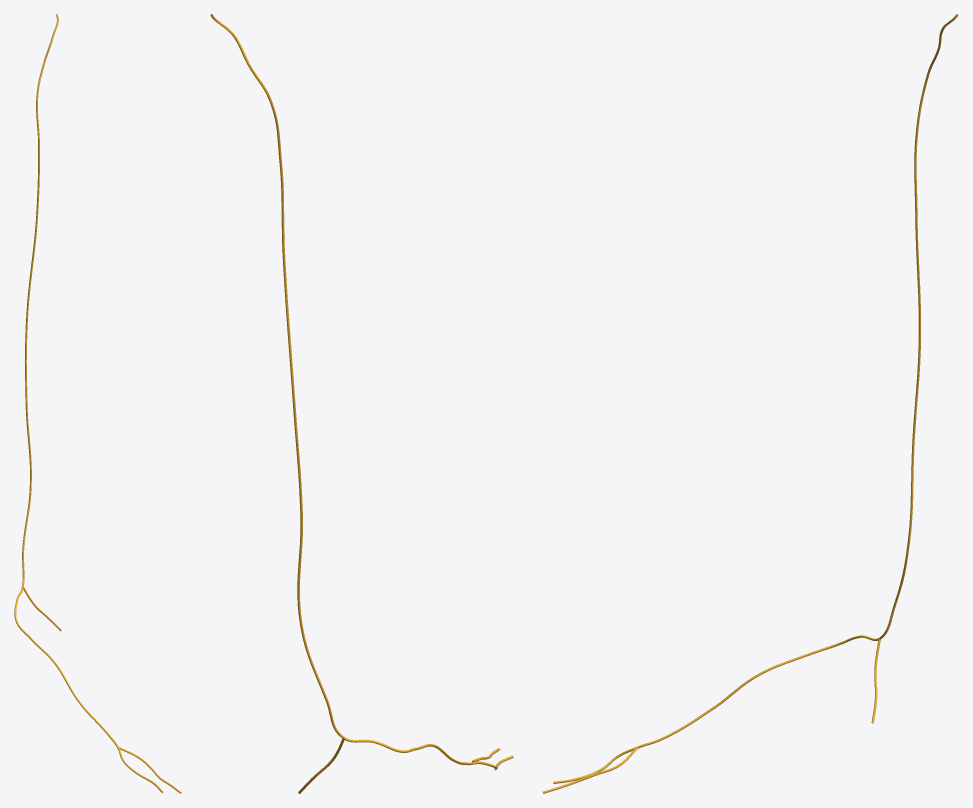
Rendered from nervoso-deep-fibular-nerve-l.glb.
3 renders of one model, left to right at view 1: azimuth 30°, elevation 25°; view 2: azimuth 150°, elevation 25°; view 3: azimuth 270°, elevation 25°, orthographic. The views are drawn at different scales.
Visible parts, largest first — view 1: Deep fibular nerve.l, Dorsal digital branches of deep fibular nerve.l; view 2: Deep fibular nerve.l; view 3: Deep fibular nerve.l, Dorsal digital branches of deep fibular nerve.l.
Boxes of the visible parts, x1=… form: Deep fibular nerve.l: x1=14, y1=14, x2=78, y2=701; Dorsal digital branches of deep fibular nerve.l: x1=78, y1=700, x2=181, y2=793; Deep fibular nerve.l: x1=210, y1=14, x2=453, y2=761; Deep fibular nerve.l: x1=711, y1=14, x2=958, y2=709; Dorsal digital branches of deep fibular nerve.l: x1=542, y1=708, x2=712, y2=793.
Bounding box in the file's own units: 0.0545 × 0.3711 × 0.1737.
